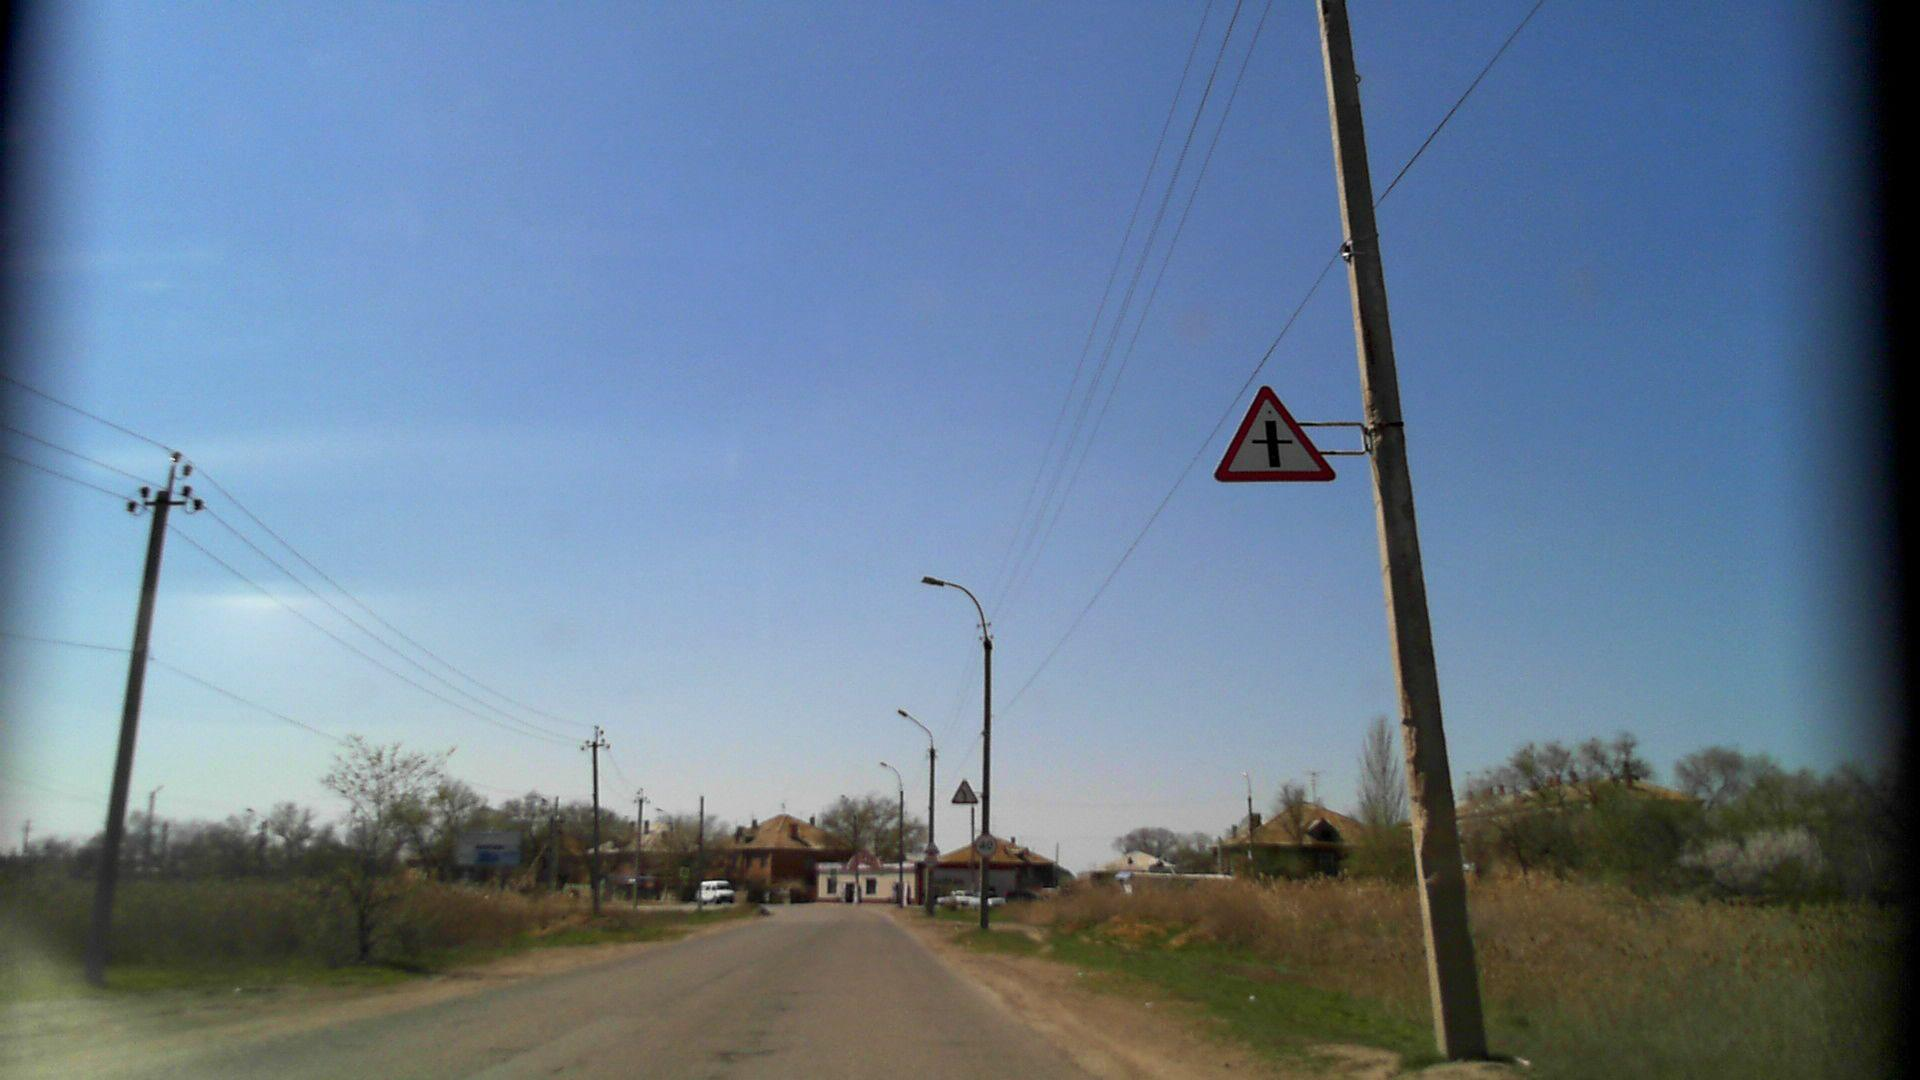1_11_2: (951, 778, 980, 804)
2_3_1: (1211, 380, 1336, 488)
3_24: (971, 829, 1002, 856)
